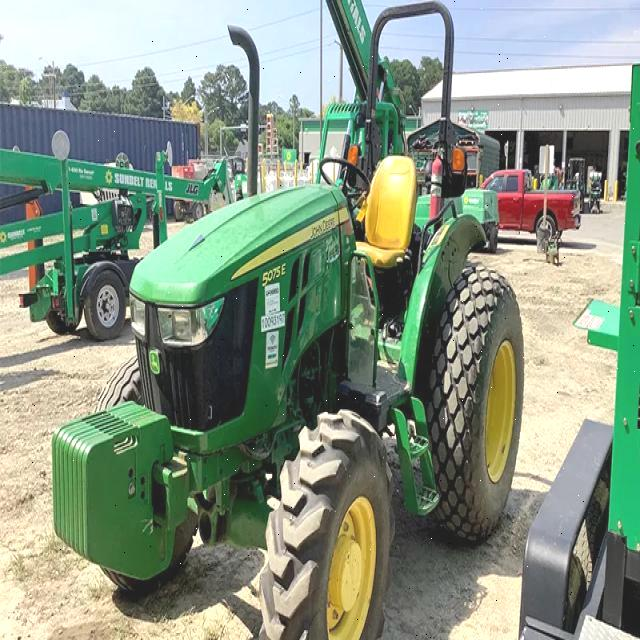Tratores - v5 YOLO V8L 2024-11-13: (44, 4, 526, 638)
